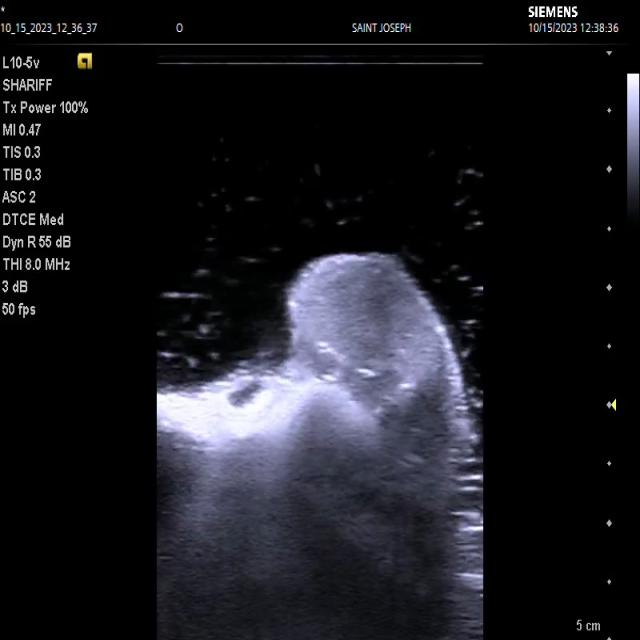tissue: (157, 254, 453, 640)
